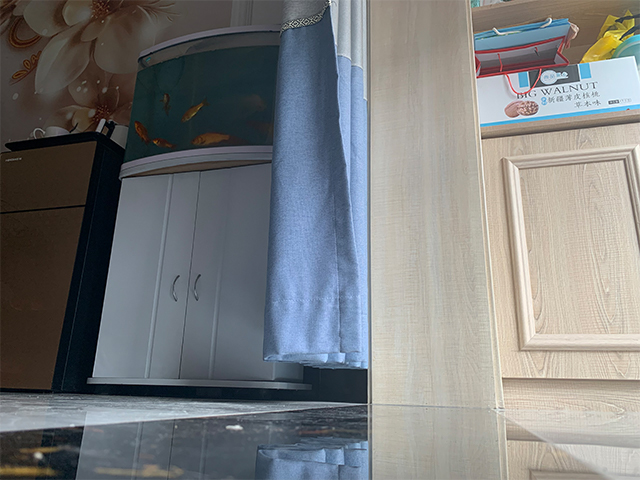cabinet: (85, 143, 317, 398), (480, 107, 640, 411), (1, 131, 125, 394)
curtain: (261, 1, 370, 373)
